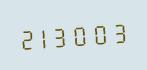one: (35, 22, 52, 51)
three: (54, 21, 71, 50), (108, 17, 125, 46)
two: (17, 23, 34, 52)
zero: (90, 18, 107, 47), (72, 20, 89, 48)
